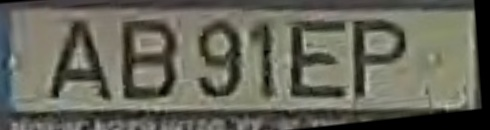1: (247, 20, 277, 102)
9: (194, 17, 244, 101)
A: (42, 17, 118, 103)
B: (119, 17, 180, 102)
E: (286, 18, 350, 102)
P: (350, 17, 409, 103)
